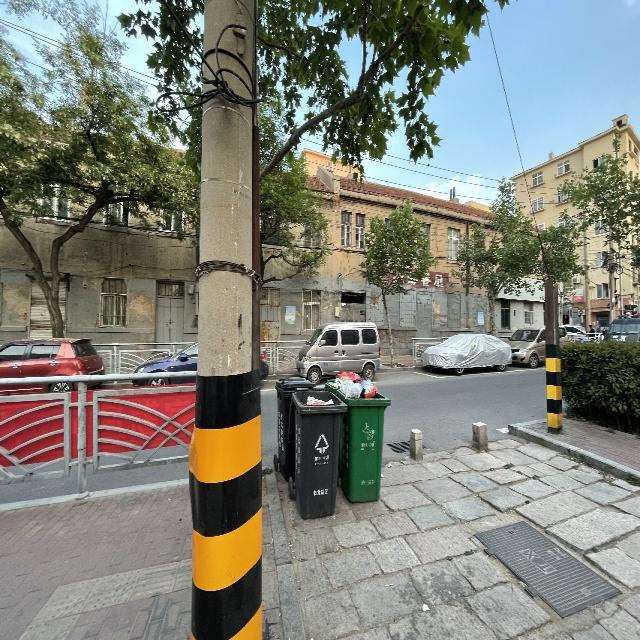garbage_bin: (274, 374, 316, 480)
overflow: (326, 370, 391, 502), (288, 389, 346, 518)
